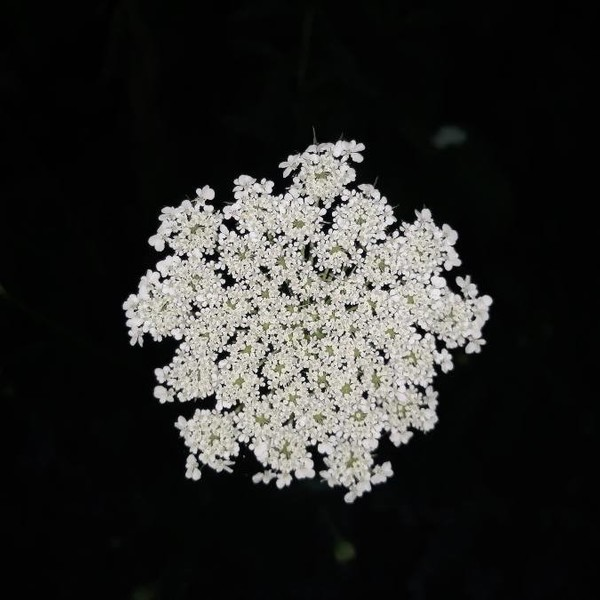obstacle: (147, 129, 507, 507)
